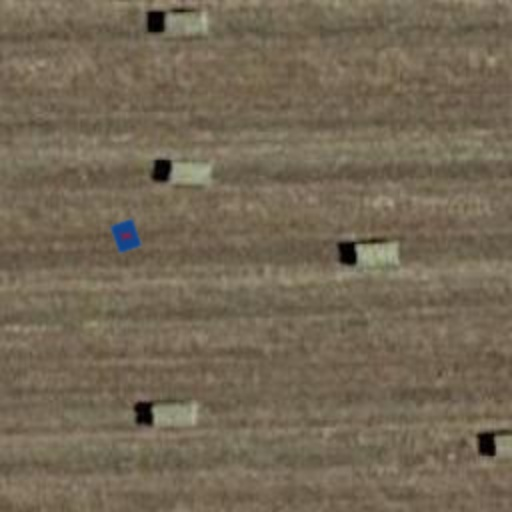rectangle: (106, 216, 146, 256)
